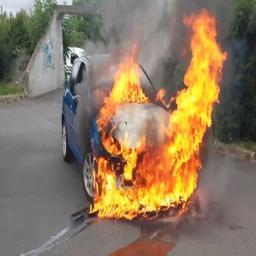fire: (87, 7, 228, 220)
